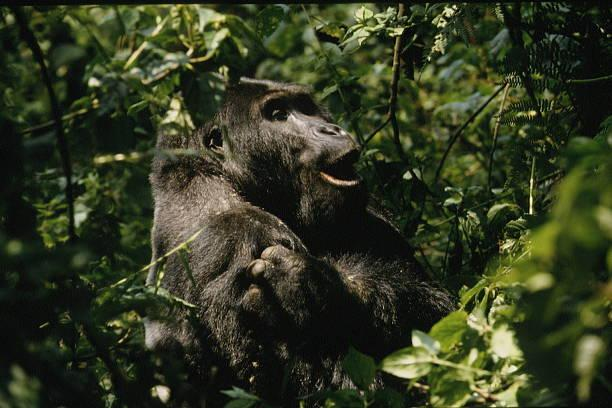goriile_montagne: (168, 79, 409, 350)
